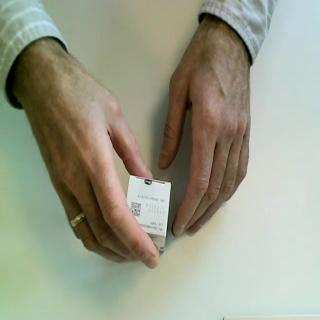xanor2mg: (126, 173, 174, 262)
